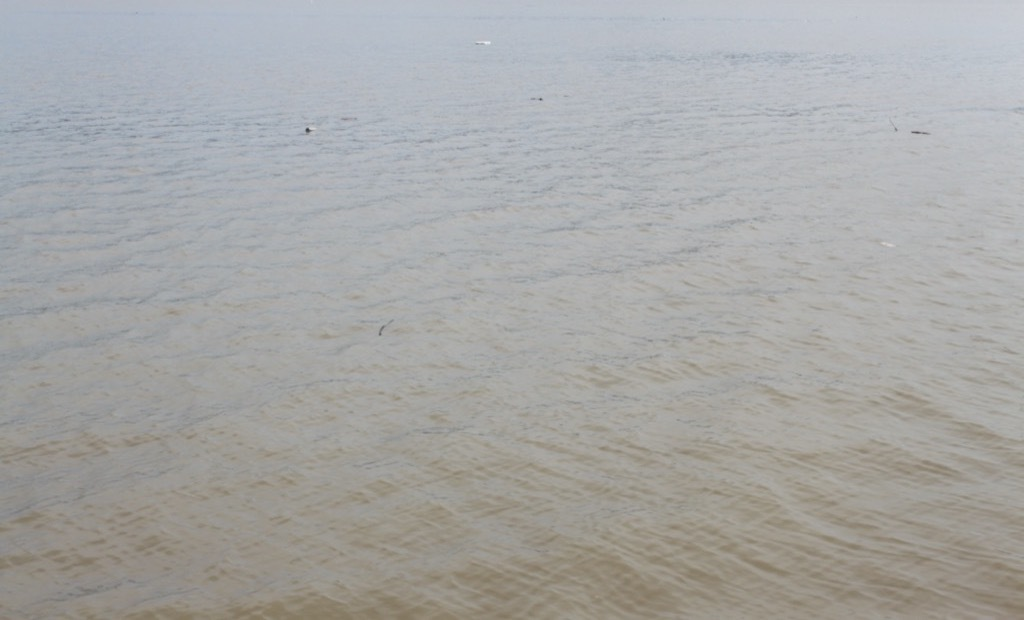organic: (367, 311, 401, 341), (901, 123, 950, 141), (882, 112, 904, 137), (522, 87, 549, 105)
plastic: (291, 118, 326, 141), (871, 234, 904, 253), (465, 34, 501, 51)
